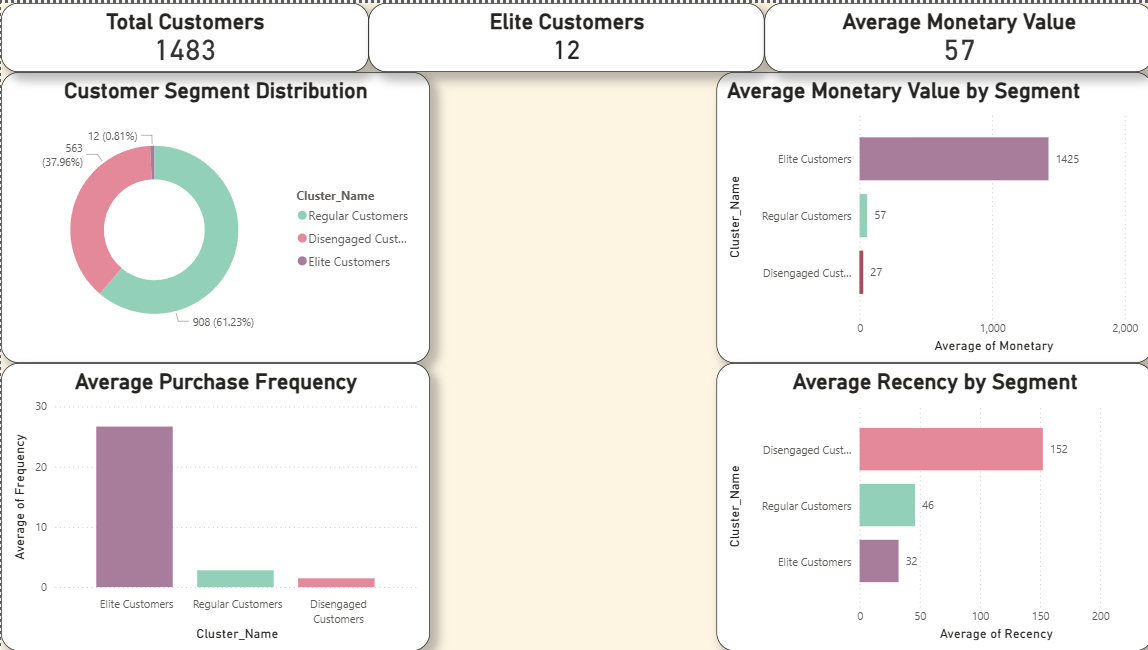

Layout of this report page (visuals, bound fields, positions):
{"tool":"powerbi","page":{"name":"Customer Segmentation Dashboard","canvas":[1280,720],"ordinal":0},"visuals":[{"type":"donutChart","title":"Customer Segment Distribution","fields":{"Category":["rfm_clustered.Cluster_Name"],"Y":["CountNonNull(rfm_clustered.CustomerID)"]},"box":[0,76.7,476.7,323.3],"z":0},{"type":"clusteredBarChart","title":"Average Monetary Value by Segment","fields":{"Category":["rfm_clustered.Cluster_Name"],"Y":["Avg(rfm_clustered.Monetary)"]},"box":[795,76.7,485,323.3],"z":1000},{"type":"clusteredColumnChart","title":"Average Purchase Frequency","fields":{"Category":["rfm_clustered.Cluster_Name"],"Y":["Avg(rfm_clustered.Frequency)"]},"box":[0,400,476.7,320],"z":2000},{"type":"advanceCardE03760C5AB684758B56AA29F9E6C257B","title":"Total Customers","fields":{"mainMeasure":["CountNonNull(rfm_clustered.CustomerID)"]},"box":[0,0,408.3,76.7],"z":3000},{"type":"kpi","title":"Elite Customers","fields":{"TrendLine":["rfm_clustered.Cluster_Name"],"Indicator":["CountNonNull(rfm_clustered.CustomerID)"]},"box":[408.8,0,439.1,77.2],"z":4000},{"type":"advanceCardE03760C5AB684758B56AA29F9E6C257B","title":"Average Monetary Value","fields":{"mainMeasure":["Avg(rfm_clustered.Monetary)"]},"box":[848.3,0,431.7,76.7],"z":5000},{"type":"clusteredBarChart","title":"Average Recency by Segment","fields":{"Category":["rfm_clustered.Cluster_Name"],"Y":["Avg(rfm_clustered.Recency)"]},"box":[795,400,485,320],"z":6000},{"type":"textbox","title":"Segment Insights","box":[477.7,176.5,317.4,383.8],"z":7000}]}

Visuals, with their boxes in screenshot pixels (x1, y1, x2, y2), scaled from the page's 1280x720 canvas onto the 1148x650 screenshot:
"Customer Segment Distribution" donutChart: locate(0, 69, 428, 361)
"Average Monetary Value by Segment" clusteredBarChart: locate(713, 69, 1147, 361)
"Average Purchase Frequency" clusteredColumnChart: locate(0, 361, 428, 649)
"Total Customers" advanceCardE03760C5AB684758B56AA29F9E6C257B: locate(0, 0, 366, 69)
"Elite Customers" kpi: locate(367, 0, 760, 70)
"Average Monetary Value" advanceCardE03760C5AB684758B56AA29F9E6C257B: locate(761, 0, 1147, 69)
"Average Recency by Segment" clusteredBarChart: locate(713, 361, 1147, 649)
"Segment Insights" textbox: locate(428, 159, 713, 506)
